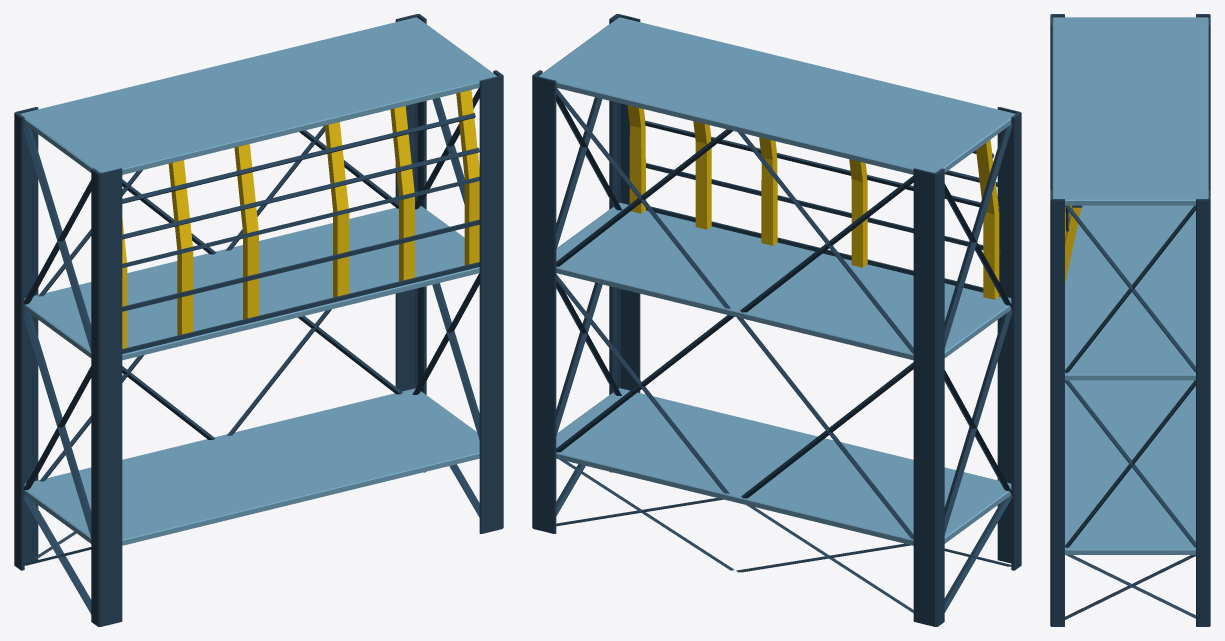
Rendered from Prop_Rack_B.fbx.
3 views of the same model, side by side, from view 1: azimuth 30°, elevation 25°; view 2: azimuth 150°, elevation 25°; view 3: azimuth 270°, elevation 25° (orthographic). The views are drawn at different scales.
Parts seen in each view (by area): view 1: Prop_Rack_B; view 2: Prop_Rack_B; view 3: Prop_Rack_B.
Part boxes in pixels (x1,y1,x2,y2): Prop_Rack_B: (14,14,503,626); Prop_Rack_B: (532,14,1021,626); Prop_Rack_B: (1050,14,1210,626).
Bounding box in the file's own units: 143 × 393 × 419.
